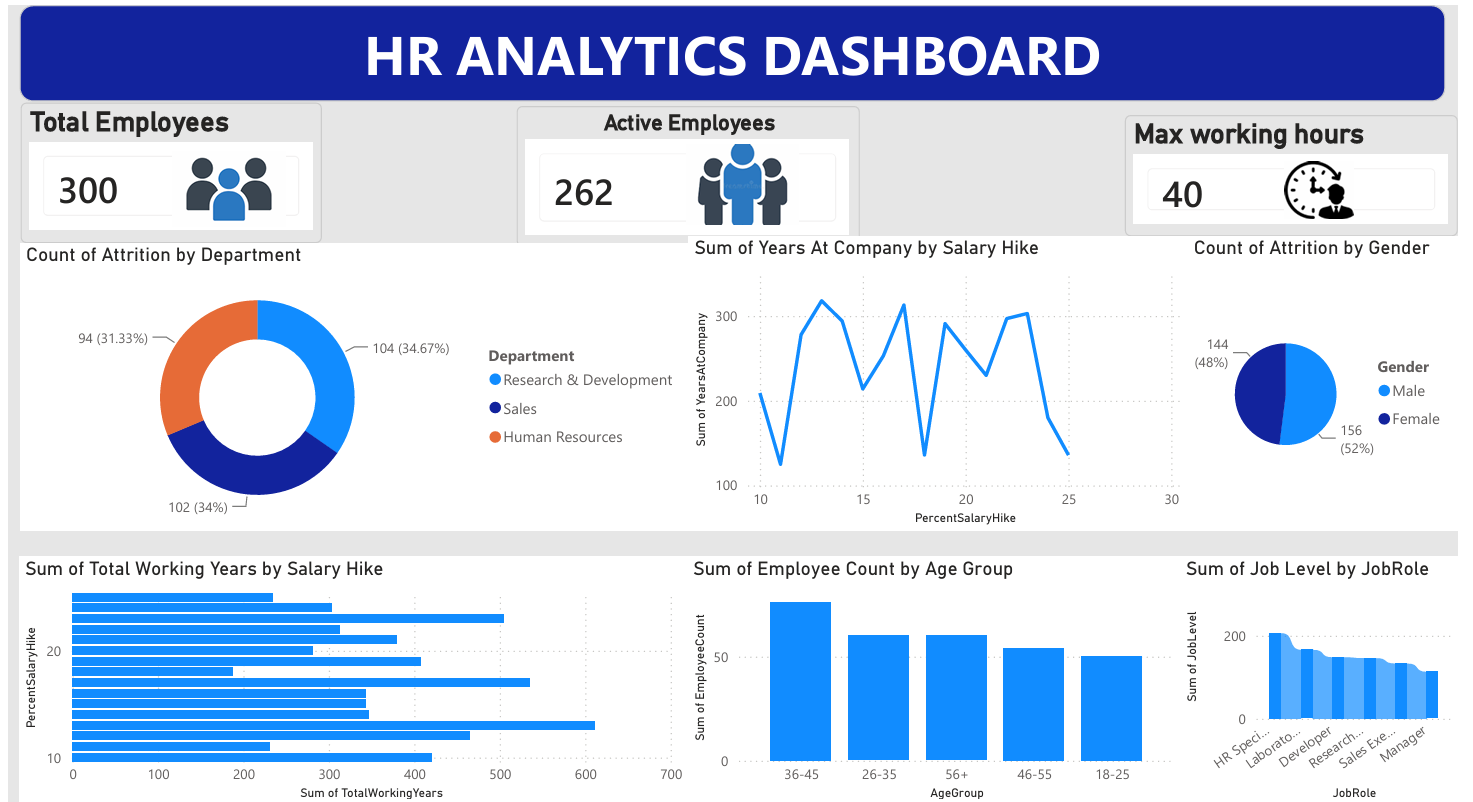

Layout of this report page (visuals, bound fields, positions):
{"tool":"powerbi","page":{"name":"Page 1","canvas":[1280,720],"ordinal":0},"visuals":[{"type":"textbox","box":[10,0,1259,85],"z":0},{"type":"cardVisual","title":"Total Employees","fields":{"Data":["CountNonNull(HR_Analytics.EmpID)"]},"box":[11,86.4,266.2,123.5],"z":1000},{"type":"cardVisual","title":"Active Employees","fields":{"Data":["CountNonNull(HR_Analytics.EmployeeCount)"]},"box":[449.4,88.5,303,124.3],"z":2000},{"type":"cardVisual","title":"Max working hours","fields":{"Data":["Max(HR_Analytics.TotalWorkingYears)"]},"box":[985.5,97,294.5,107.2],"z":3000},{"type":"donutChart","fields":{"Category":["HR_Analytics.Department"],"Y":["CountNonNull(HR_Analytics.Attrition)"]},"box":[11,209.9,590.1,253.9],"z":4000},{"type":"lineChart","title":"Sum of Years At Company by Salary Hike","fields":{"Y":["Sum(HR_Analytics.YearsAtCompany)"],"Category":["HR_Analytics.PercentSalaryHike"]},"box":[601,204.5,440.5,259.3],"z":5000},{"type":"clusteredBarChart","title":"Sum of Total Working Years by Salary Hike","fields":{"Category":["HR_Analytics.PercentSalaryHike"],"Y":["Sum(HR_Analytics.TotalWorkingYears)"]},"box":[9.6,487.1,590.1,219.6],"z":6000},{"type":"clusteredColumnChart","title":"Sum of Employee Count by Age Group","fields":{"Category":["HR_Analytics.AgeGroup"],"Y":["Sum(HR_Analytics.EmployeeCount)"]},"box":[599.7,487.1,435,219.6],"z":7000},{"type":"pieChart","fields":{"Y":["CountNonNull(HR_Analytics.Attrition)"],"Category":["HR_Analytics.Gender"]},"box":[1041.5,204.5,238.8,259.3],"z":8000},{"type":"ribbonChart","title":"Sum of Job Level by JobRole","fields":{"Category":["HR_Analytics.JobRole"],"Y":["Sum(HR_Analytics.JobLevel)"]},"box":[1034.7,487.1,245.6,219.6],"z":9000},{"type":"image","box":[144.7,120.9,100.4,83.4],"z":10000},{"type":"image","box":[1126.8,132.8,61.3,61.3],"z":11000},{"type":"image","box":[599.1,120.9,98.7,74.9],"z":12000}]}

Visuals, with their boxes on the page's 1280x720 design canvas (x1, y1, x2, y2). These are canvas units, not pixel positions in the 1473x802 screenshot, which may show the page scaled, cropped or inside an application window:
textbox: 10/0/1269/85
"Total Employees" cardVisual: 11/86/277/210
"Active Employees" cardVisual: 449/88/752/213
"Max working hours" cardVisual: 986/97/1280/204
donutChart - HR_Analytics.Department x CountNonNull(HR_Analytics.Attrition): 11/210/601/464
"Sum of Years At Company by Salary Hike" lineChart: 601/204/1042/464
"Sum of Total Working Years by Salary Hike" clusteredBarChart: 10/487/600/707
"Sum of Employee Count by Age Group" clusteredColumnChart: 600/487/1035/707
pieChart - CountNonNull(HR_Analytics.Attrition) x HR_Analytics.Gender: 1042/204/1280/464
"Sum of Job Level by JobRole" ribbonChart: 1035/487/1280/707
image: 145/121/245/204
image: 1127/133/1188/194
image: 599/121/698/196
